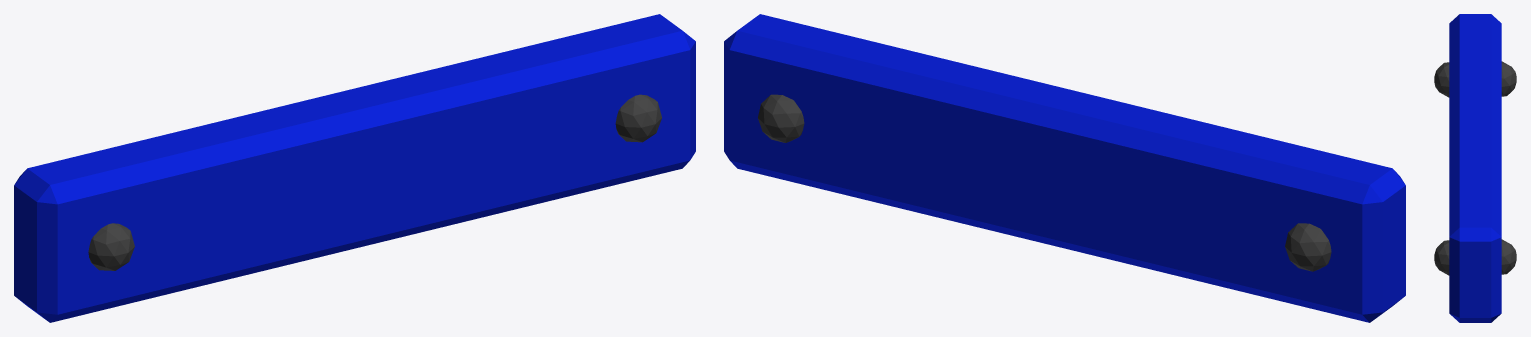
File: BarIB.fbx
The picture shows the model from 3 angles, left to right: view 1: azimuth 30°, elevation 25°; view 2: azimuth 150°, elevation 25°; view 3: azimuth 270°, elevation 25°; orthographic projection. The views are drawn at different scales.
Visible parts, largest first — view 1: BarIB; view 2: BarIB; view 3: BarIB.
Boxes of the visible parts, x1,y1,x2,y2 form: BarIB: (14, 14, 695, 322); BarIB: (724, 14, 1405, 322); BarIB: (1434, 14, 1516, 322).
Bounding box in the file's own units: 1000 × 200 × 157.
